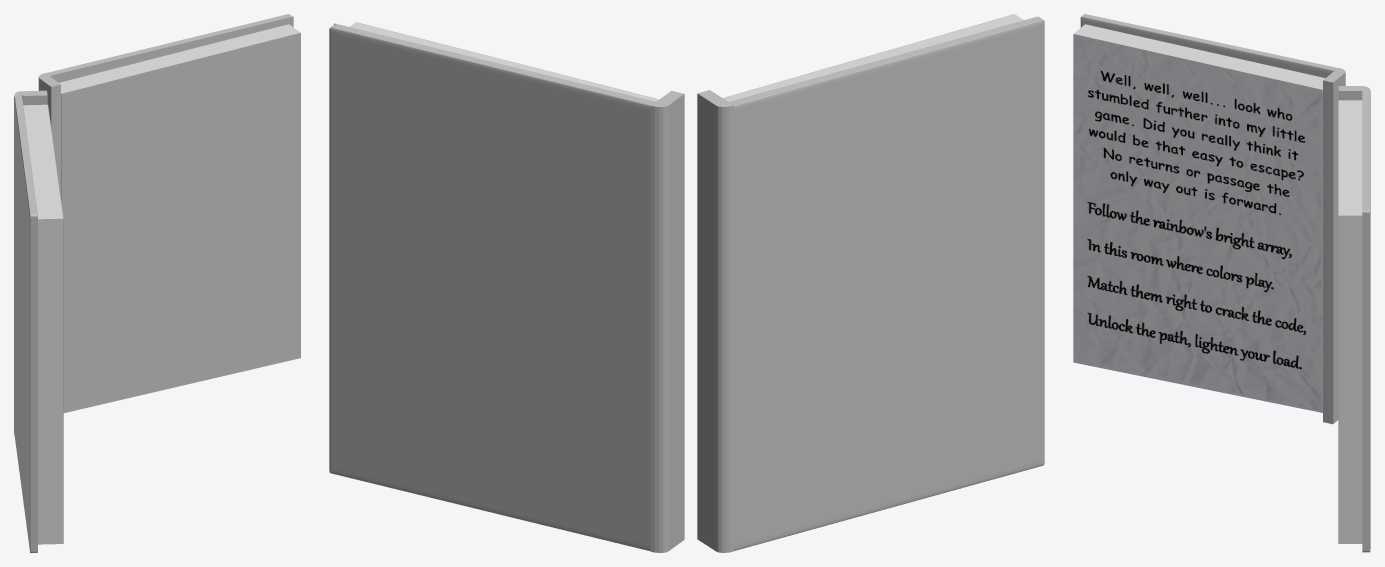
The model's file is V2Book.dae.
The picture shows the model from 3 angles, left to right: view 1: azimuth 30°, elevation 25°; view 2: azimuth 150°, elevation 25°; view 3: azimuth 270°, elevation 25°; orthographic projection. The views are drawn at different scales.
Visible parts, largest first — view 1: Right Book Side, Left Book Side; view 2: Right Book Side, Left Book Side; view 3: Left Book Side, Right Book Side.
Part boxes in pixels (left/top/right/bottom): Right Book Side: left=38, top=14, right=300, bottom=412; Left Book Side: left=14, top=90, right=63, bottom=552; Right Book Side: left=329, top=22, right=684, bottom=552; Left Book Side: left=697, top=14, right=1044, bottom=552; Left Book Side: left=1073, top=14, right=1345, bottom=424; Right Book Side: left=1338, top=86, right=1370, bottom=552.
Size of the model in its own units: 8.42 by 5.35 by 6.79.
